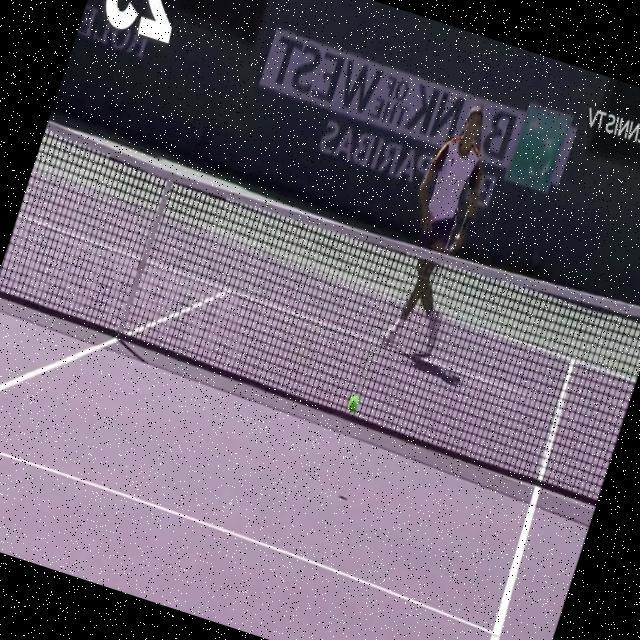net: (0, 110, 640, 495)
